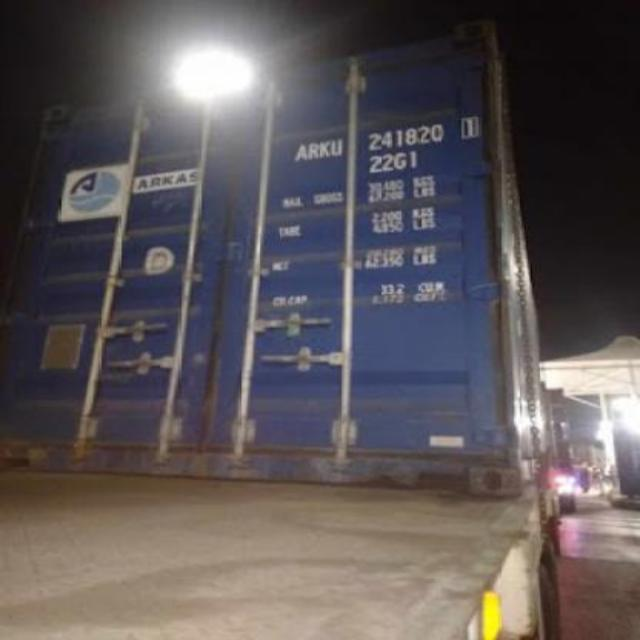0: (432, 121, 446, 142)
1: (462, 118, 478, 138), (394, 128, 406, 148)
2: (416, 122, 432, 144), (366, 130, 382, 148)
4: (381, 130, 394, 148)
8: (406, 127, 418, 145)
A: (292, 144, 310, 160)
K: (318, 139, 332, 157)
R: (308, 143, 320, 159)
U: (330, 136, 346, 156)
